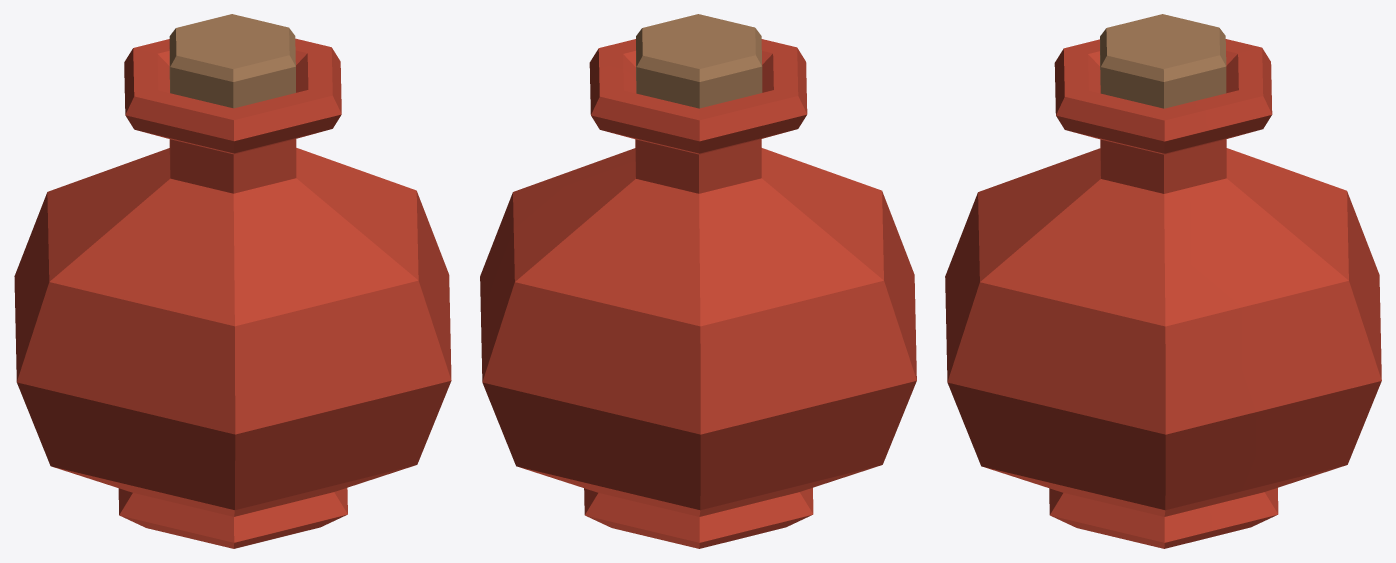
Rendered from potion_15.glb.
The picture shows the model from 3 angles, left to right: view 1: azimuth 30°, elevation 25°; view 2: azimuth 150°, elevation 25°; view 3: azimuth 270°, elevation 25°; orthographic projection.
Visible parts, largest first — view 1: potion_15; view 2: potion_15; view 3: potion_15.
Part boxes in pixels (bbox=[...]): potion_15: bbox=[14, 14, 451, 548]; potion_15: bbox=[480, 14, 916, 548]; potion_15: bbox=[945, 14, 1381, 548].
Bounding box in the file's own units: 0.2032 × 0.2077 × 0.1769.
2 materials, 2 textured.
